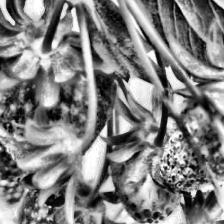Powdery Mildew Fruit: (0, 24, 119, 176), (158, 73, 224, 193), (15, 176, 109, 224), (0, 56, 30, 206)
